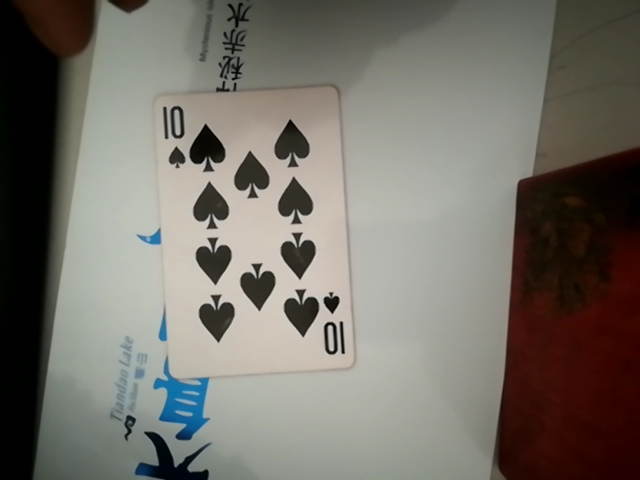ht 10: (154, 84, 357, 382)
